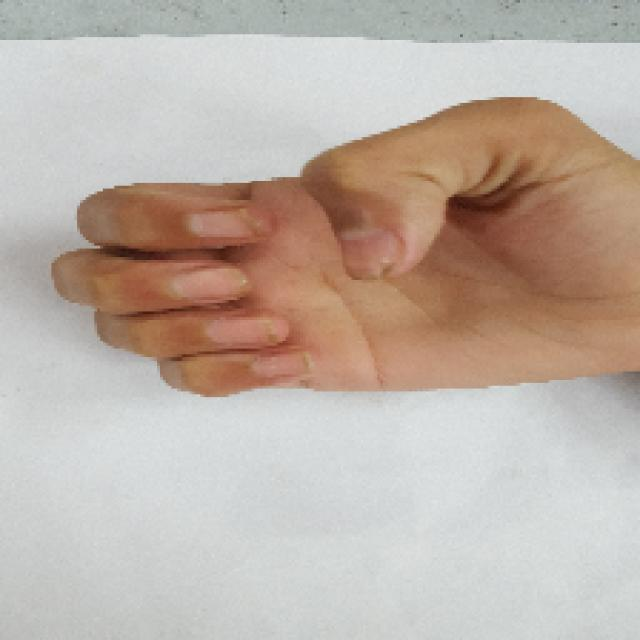Nail: (337, 227, 404, 278), (206, 316, 288, 349), (171, 269, 248, 300), (189, 208, 259, 238), (252, 353, 309, 376)
